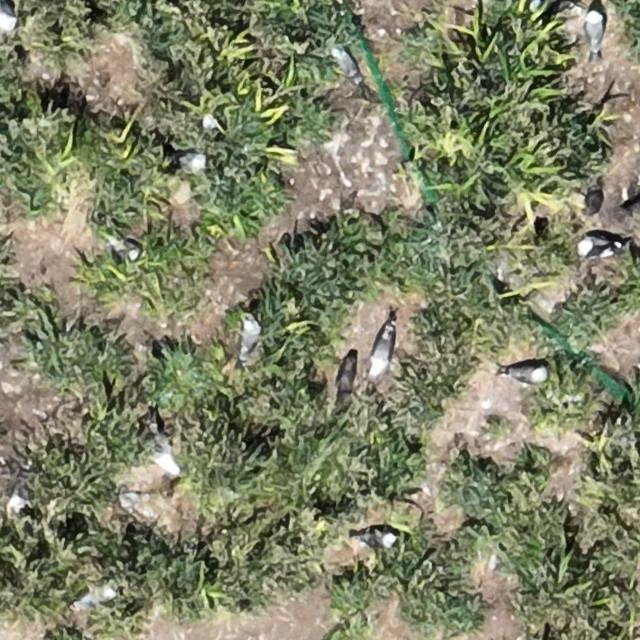umineko: (368, 322, 398, 377), (148, 439, 180, 480), (238, 318, 258, 359), (585, 11, 604, 51), (357, 529, 396, 548), (507, 366, 545, 384), (76, 587, 110, 607), (335, 49, 357, 78), (579, 237, 612, 256), (112, 236, 140, 258), (1, 2, 16, 29)
